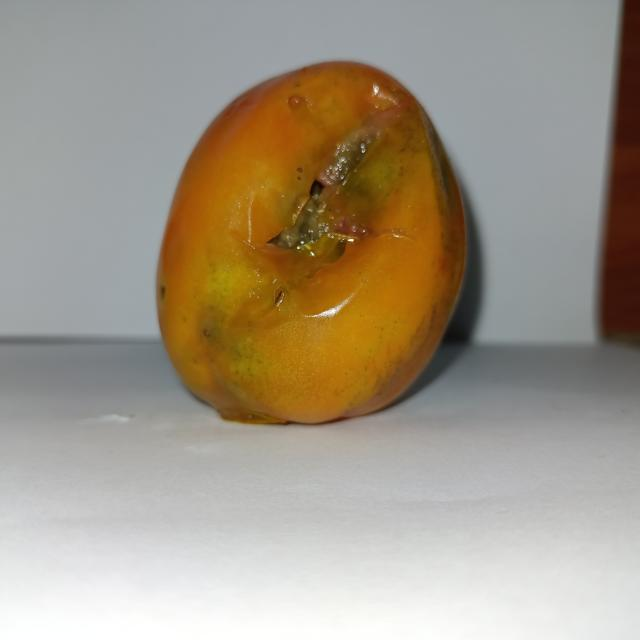Red: (154, 58, 469, 426)
